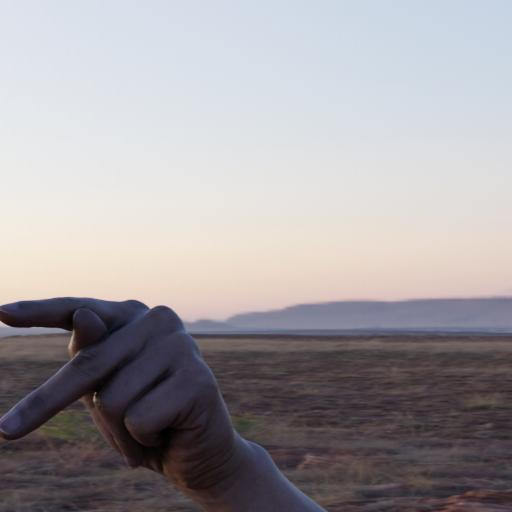P: (0, 197, 347, 512)
